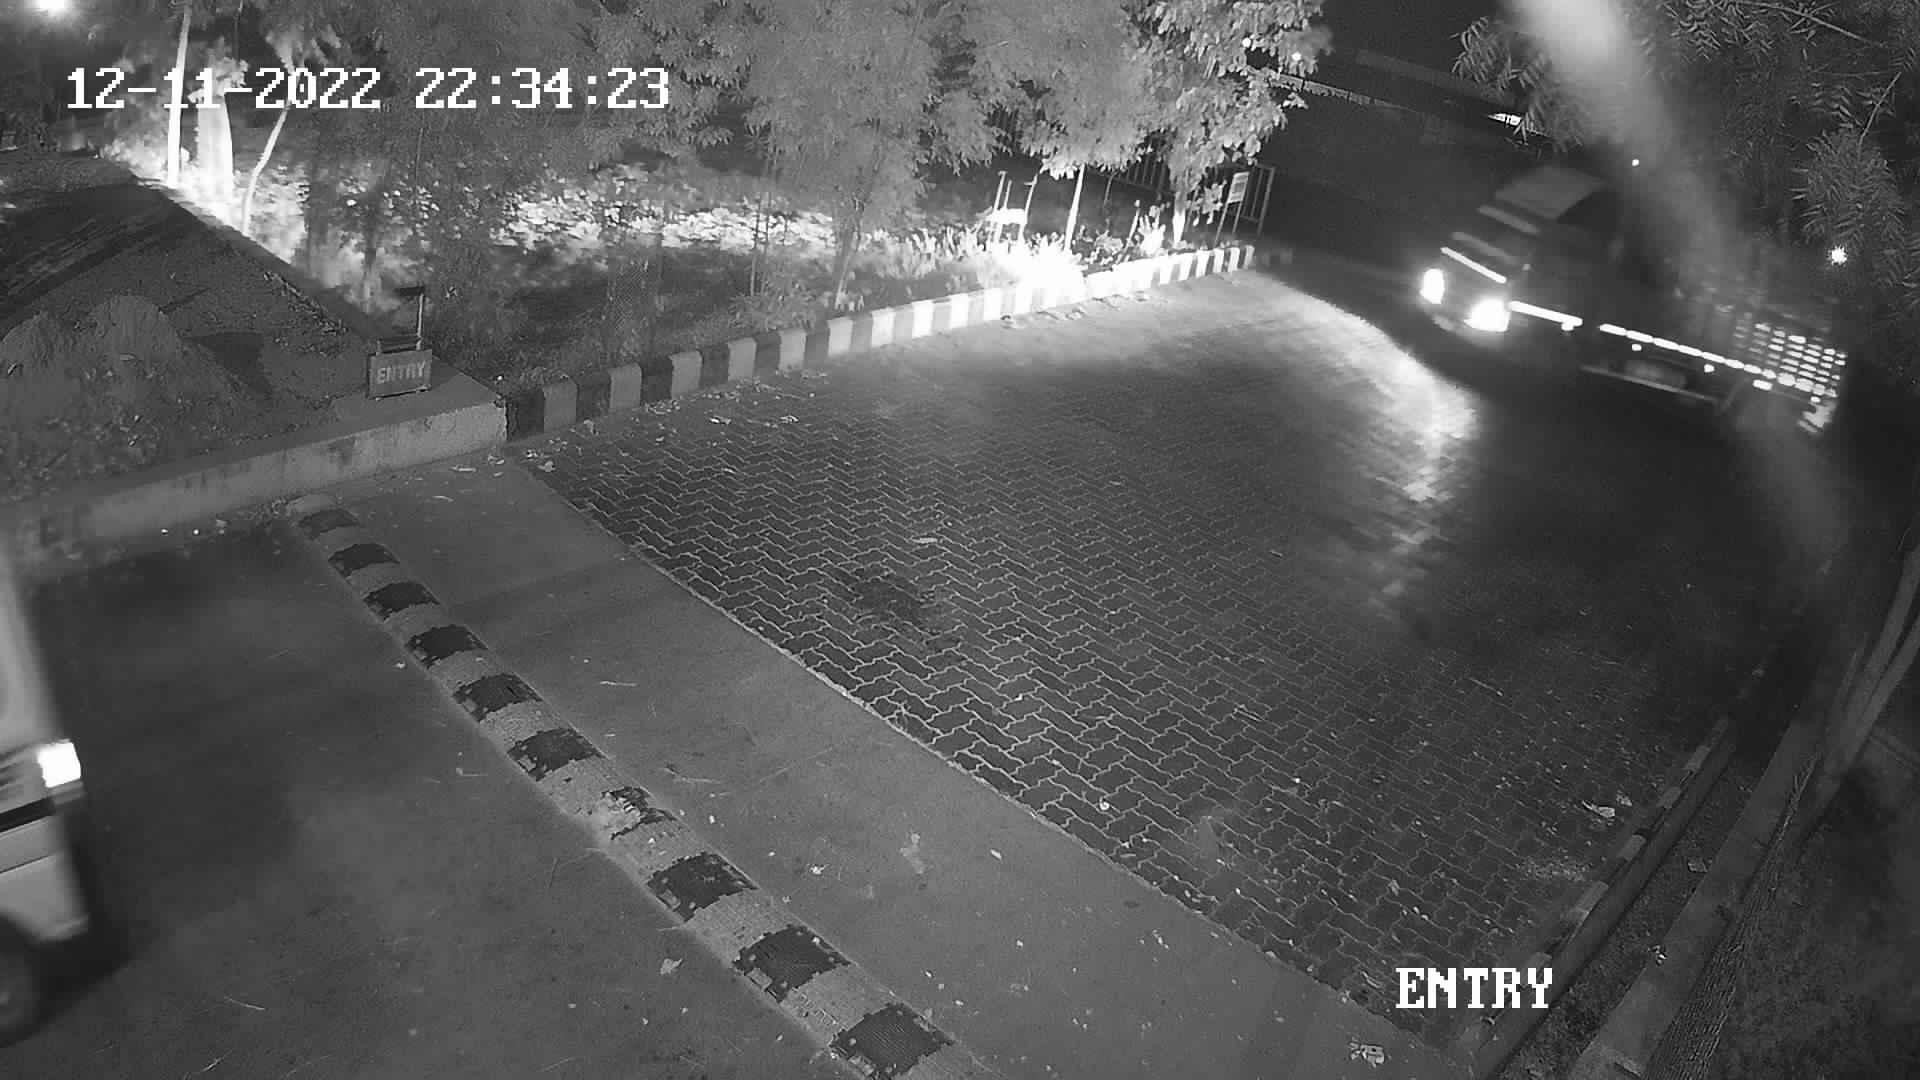Car: (0, 436, 128, 1073)
HMV: (1400, 153, 1862, 464)
